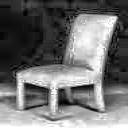chair_success: (7, 9, 120, 120)
